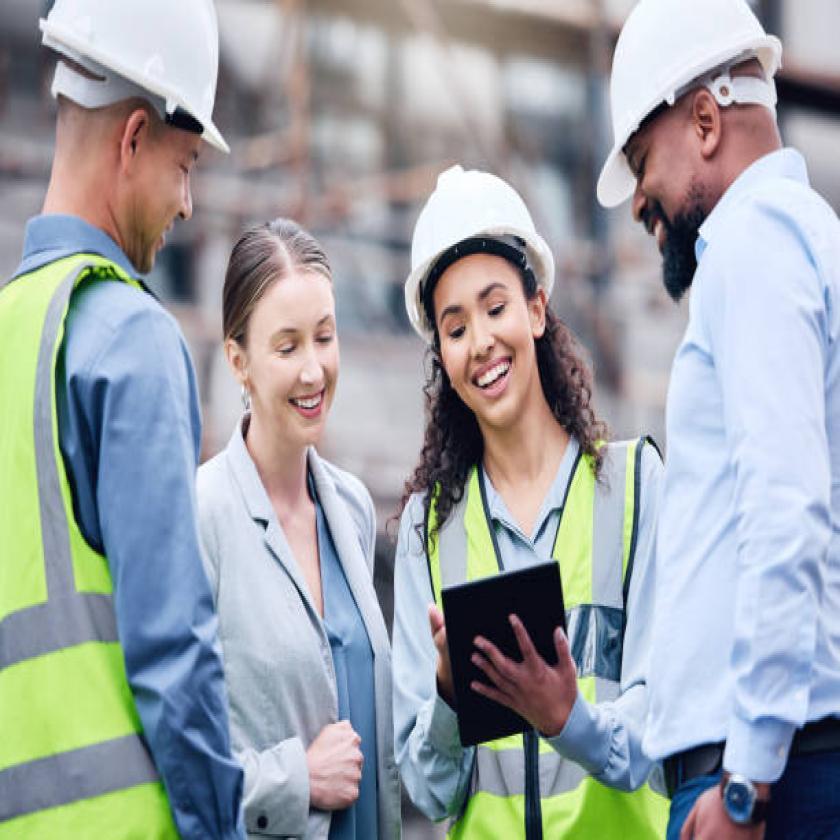Con_casco: (598, 0, 820, 280), (396, 133, 578, 436), (20, 0, 222, 263)
Sin_casco: (217, 223, 356, 444)
